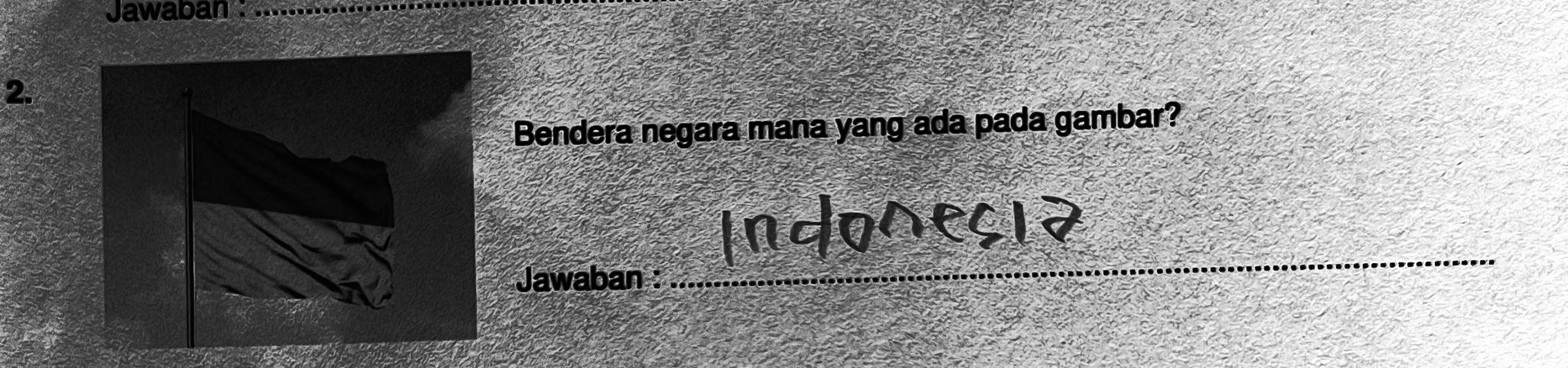jawaban: (714, 181, 1086, 272)
